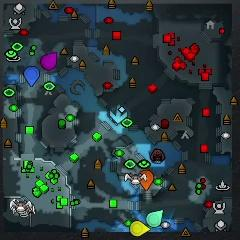p1: (24, 66, 39, 86)
p2: (146, 210, 164, 228)
p3: (41, 53, 56, 70)
p4: (130, 221, 150, 237)
p5: (140, 169, 153, 189)
x3: (110, 105, 127, 124)
